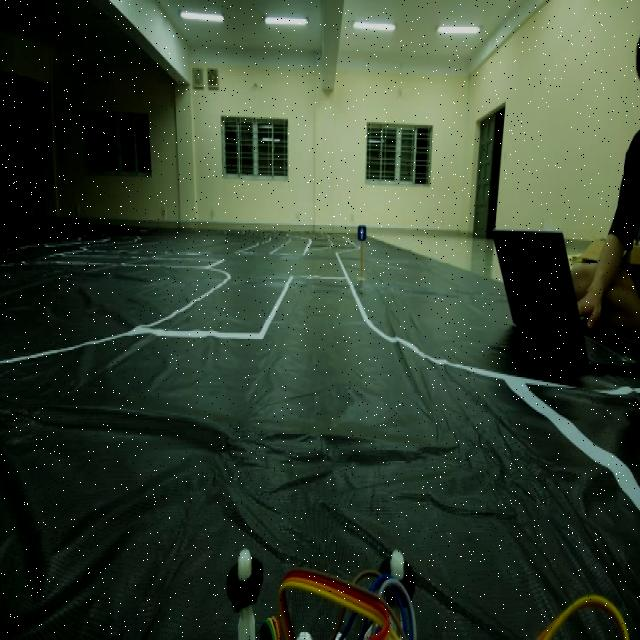onewayroad: (355, 215, 373, 248)
